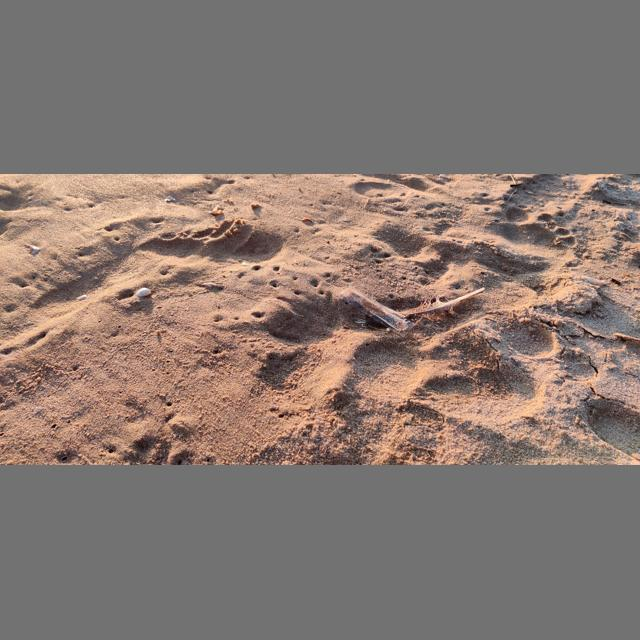litter: (337, 286, 416, 337)
